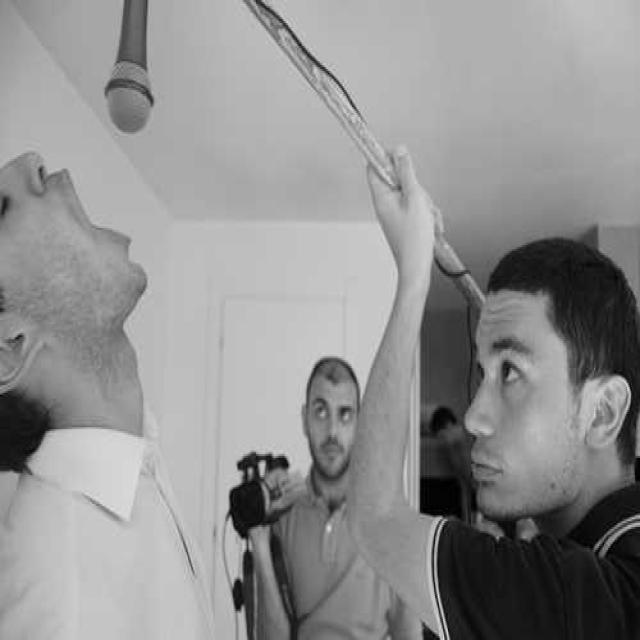microphone: (99, 0, 165, 140)
